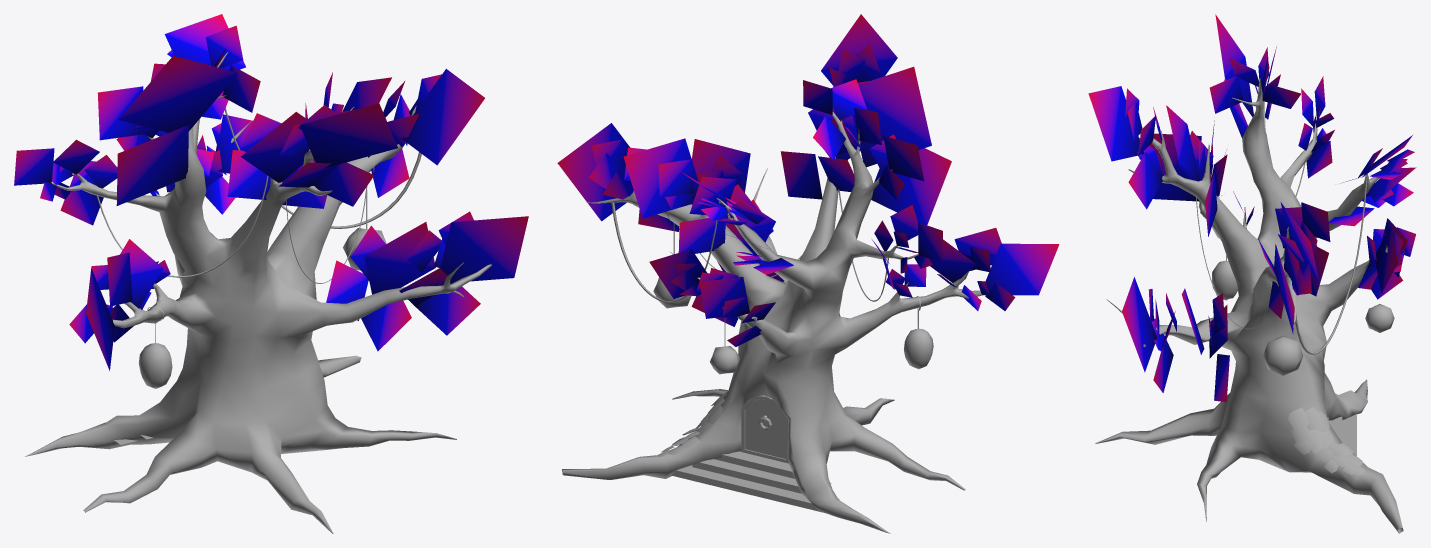
The model's file is env_autumn_door.fbx.
3 views of the same model, side by side, from view 1: azimuth 30°, elevation 25°; view 2: azimuth 150°, elevation 25°; view 3: azimuth 270°, elevation 25° (orthographic). The views are drawn at different scales.
Parts seen in each view (by area): view 1: env_autumn_door_leaves, env_autumn_door_tree; view 2: env_autumn_door_leaves, env_autumn_door_tree, env_autumn_door_door; view 3: env_autumn_door_tree, env_autumn_door_leaves.
Boxes of the visible parts, <box> form: env_autumn_door_leaves: <box>14,14,528,370</box>; env_autumn_door_tree: <box>25,52,491,533</box>; env_autumn_door_leaves: <box>557,14,1059,346</box>; env_autumn_door_tree: <box>562,112,983,533</box>; env_autumn_door_door: <box>745,399,786,458</box>; env_autumn_door_tree: <box>1095,78,1403,533</box>; env_autumn_door_leaves: <box>1088,14,1416,402</box>.
Bounding box in the file's own units: 549 × 494 × 371.
